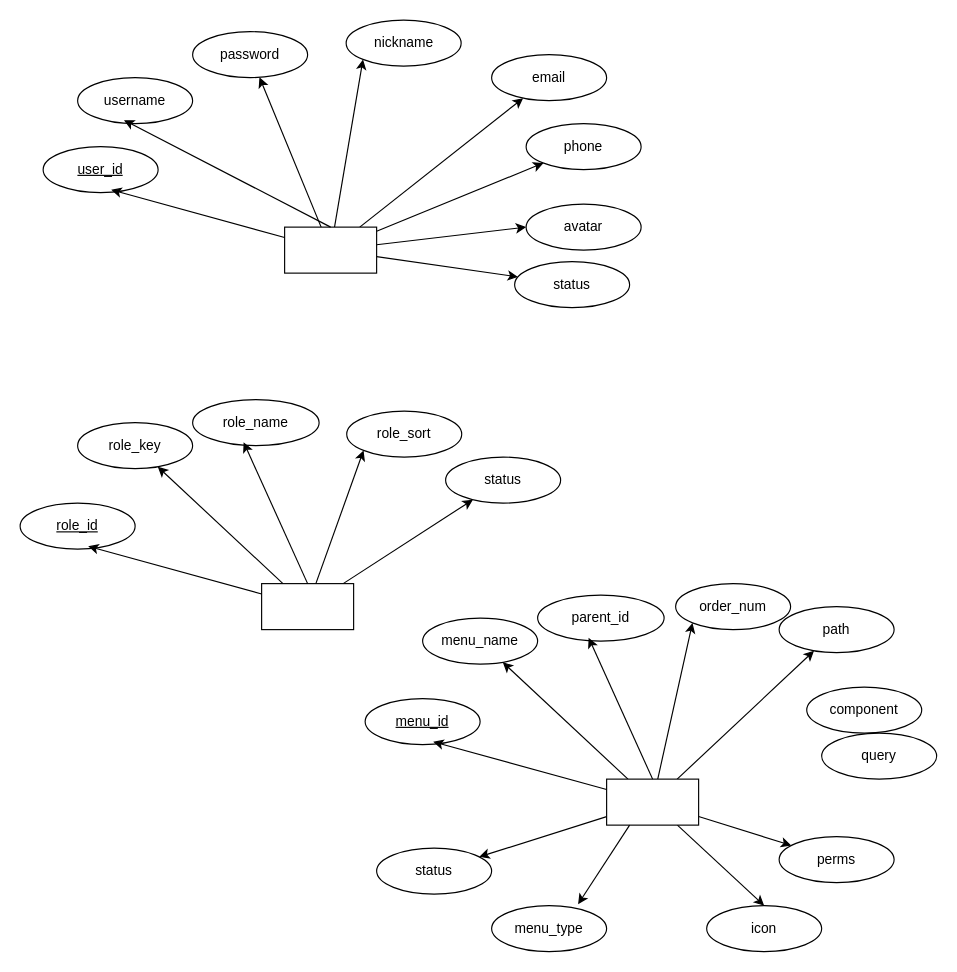
This 957x972 diagram has some shape labels left out. Each missing label, with the centre of its shape:
"sys_menu" goes at [652,801].
"sys_role" goes at [307,606].
"sys_user" goes at [330,249].
